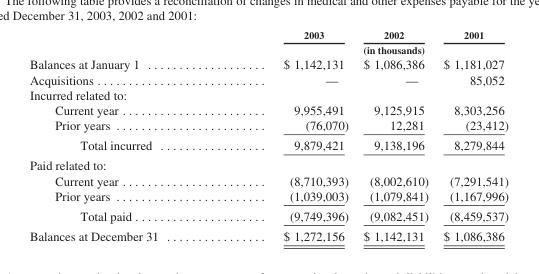table: (28, 28, 507, 242)
table column: (28, 28, 220, 242), (220, 28, 355, 242), (355, 28, 435, 242), (435, 28, 507, 242)
table column header: (28, 28, 507, 56)
table projected row header: (28, 154, 507, 172), (28, 86, 507, 101)
table row: (28, 134, 507, 154), (28, 205, 507, 225), (28, 154, 507, 172), (28, 187, 507, 205), (28, 117, 507, 134), (28, 225, 507, 242), (28, 101, 507, 117), (28, 56, 507, 71), (28, 71, 507, 86), (28, 86, 507, 101), (28, 172, 507, 187), (28, 28, 507, 42), (28, 42, 507, 56)
table spanning cell: (220, 42, 507, 56)
